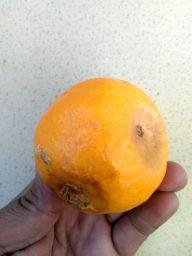Unripe: (34, 81, 167, 215)
